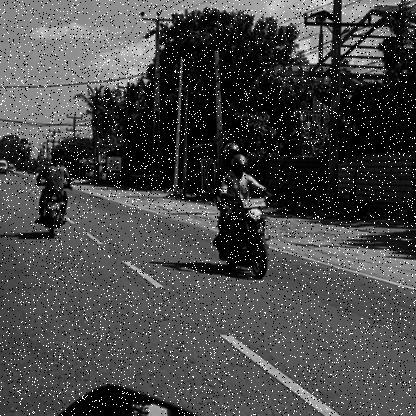motorcycle: (212, 195, 276, 282), (32, 189, 72, 244)
